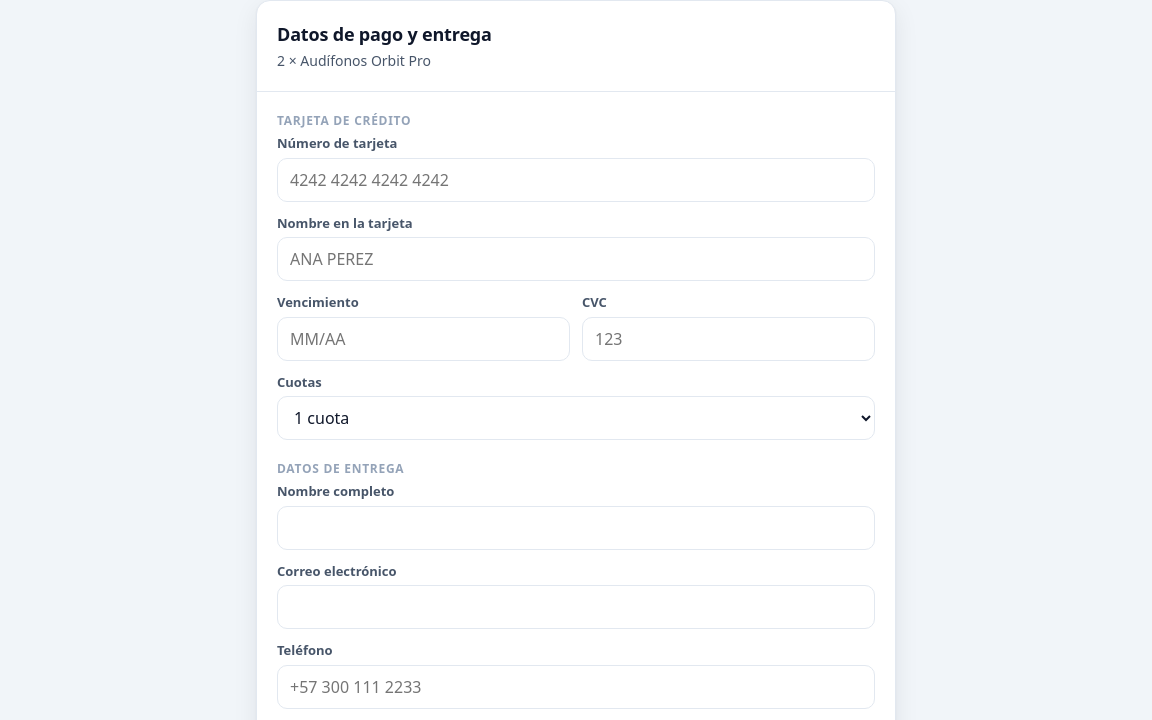
CheckoutPage › shows the Visa logo once the number identifies the brand
Type "4242" into the field labelled "Número de tarjeta" at (576,180), box [277, 158, 875, 202]
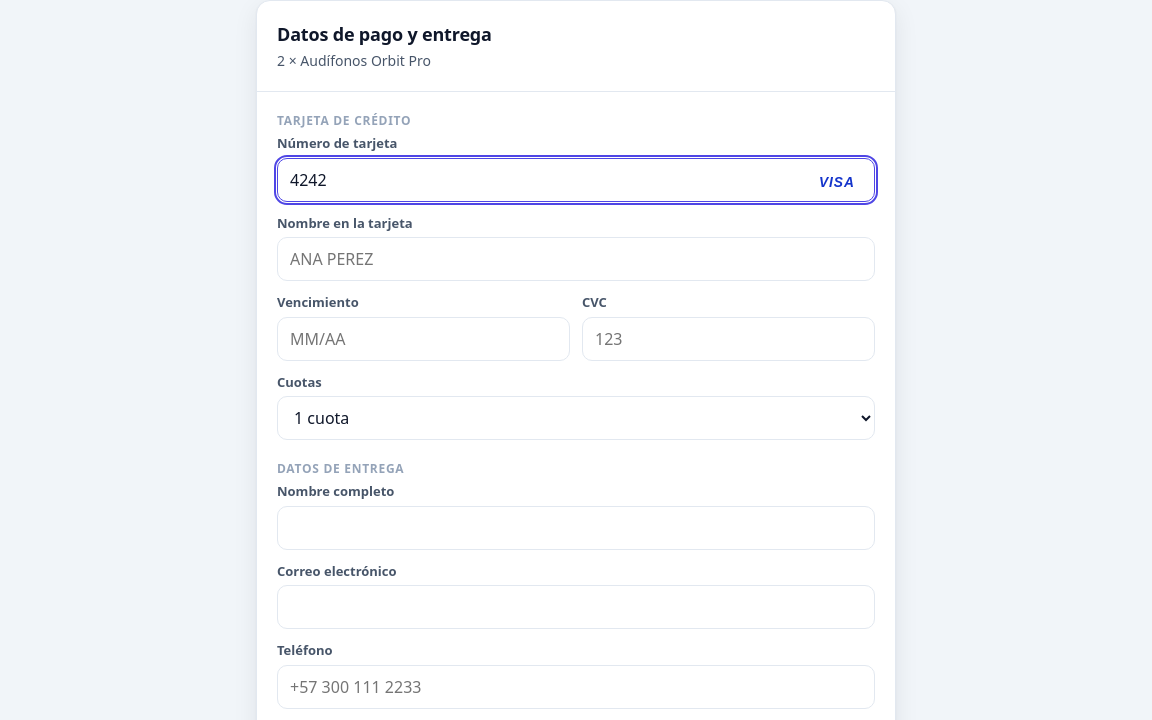
Result: the picture with test id "brand-visa" is shown at [819, 174, 863, 190]
